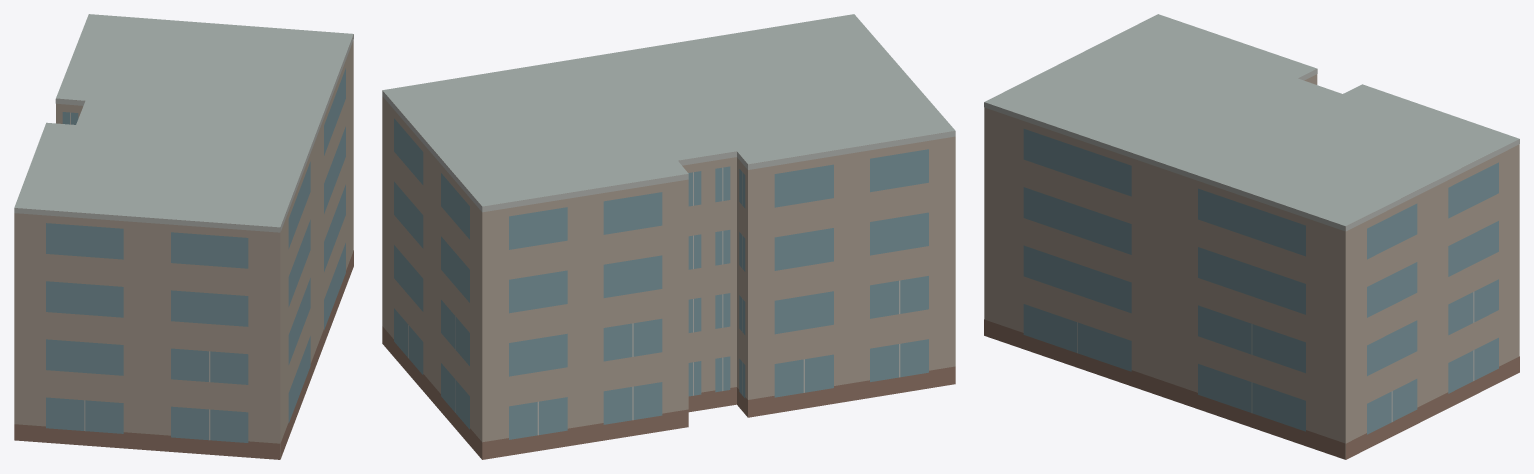
Rendered from survey-upis-33031049.glb.
3 renders of one model, left to right at view 1: azimuth 30°, elevation 25°; view 2: azimuth 150°, elevation 25°; view 3: azimuth 270°, elevation 25°, orthographic. The views are drawn at different scales.
Parts seen in each view (by area): view 1: survey-upis-33031049.tmp; view 2: survey-upis-33031049.tmp; view 3: survey-upis-33031049.tmp.
Boxes of the visible parts, bbox=[...] form: survey-upis-33031049.tmp: bbox=[14, 14, 353, 459]; survey-upis-33031049.tmp: bbox=[382, 14, 955, 459]; survey-upis-33031049.tmp: bbox=[984, 14, 1519, 459].
Bounding box in the file's own units: 21.02 × 10.78 × 22.41.
